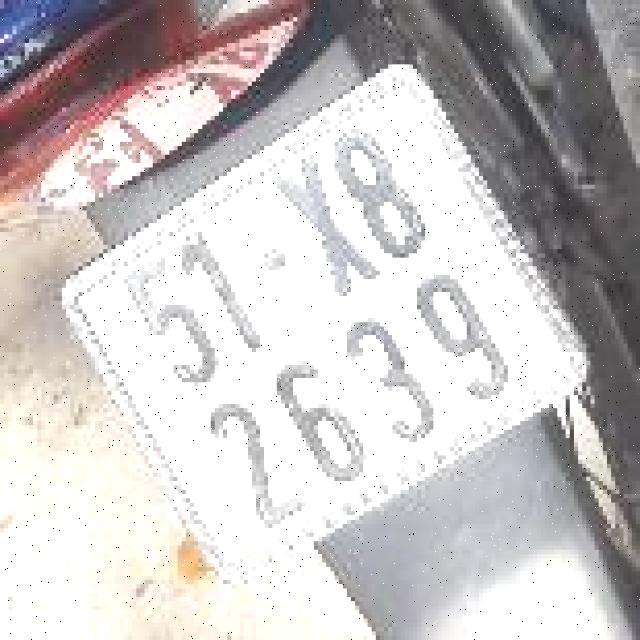1: (161, 206, 284, 368)
2: (179, 378, 326, 546)
3: (324, 300, 454, 466)
5: (104, 241, 234, 399)
6: (254, 335, 394, 508)
8: (312, 102, 453, 284)
9: (392, 253, 546, 420)
X: (259, 142, 397, 321)
